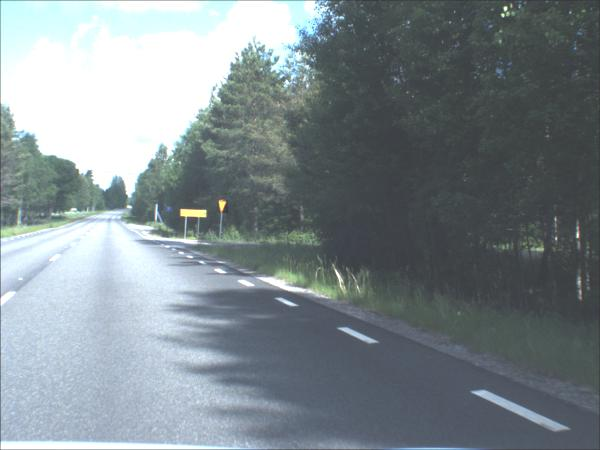GIVE_WAY: (221, 201, 231, 215)
